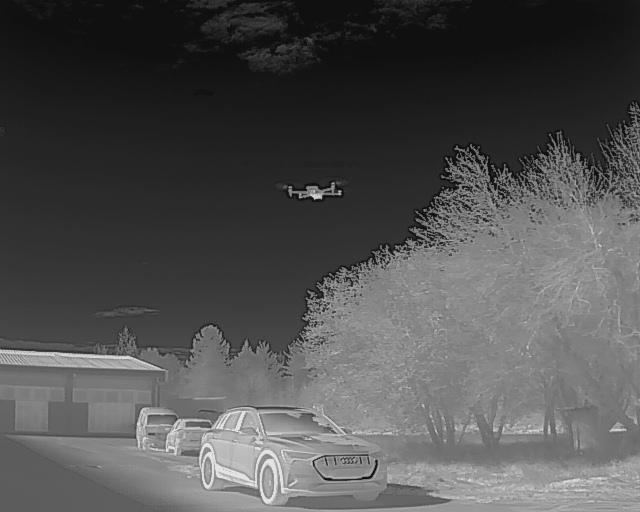drone: (274, 179, 349, 214)
